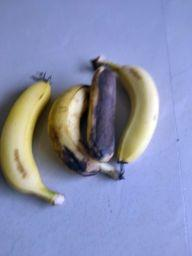banana: (0, 69, 66, 206), (90, 54, 160, 166), (46, 80, 123, 181), (84, 65, 116, 163)
